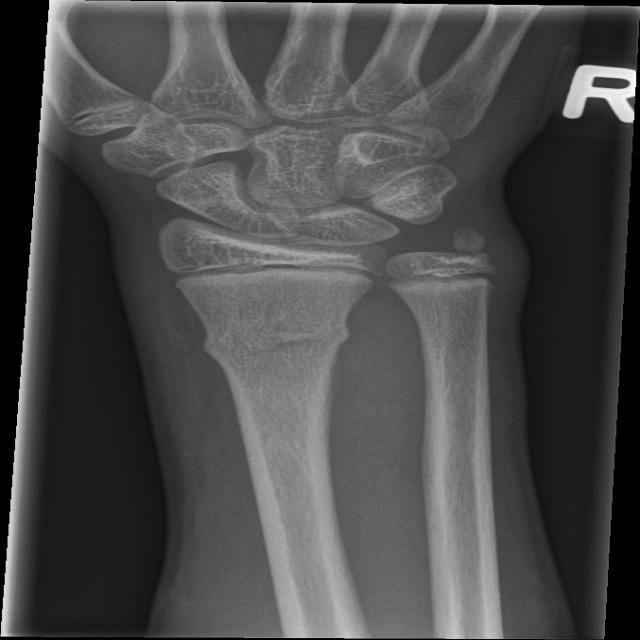radius fracture: (181, 312, 383, 428)
ulna fracture: (442, 216, 515, 359)
